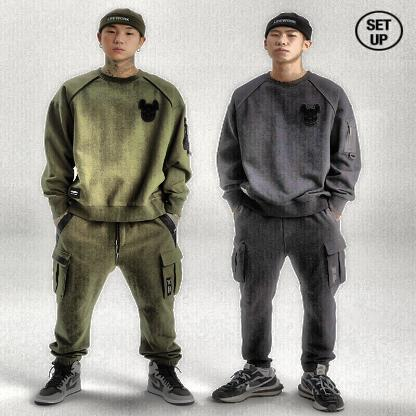sweater: (39, 66, 195, 226), (215, 70, 362, 219)
trousers: (45, 208, 184, 367), (225, 202, 351, 370)
